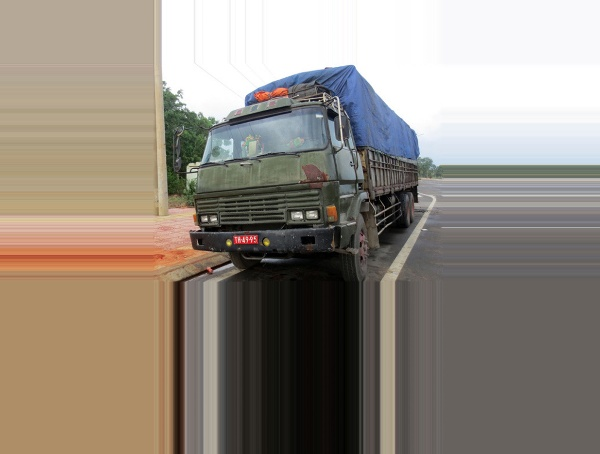plate: (231, 233, 260, 245)
